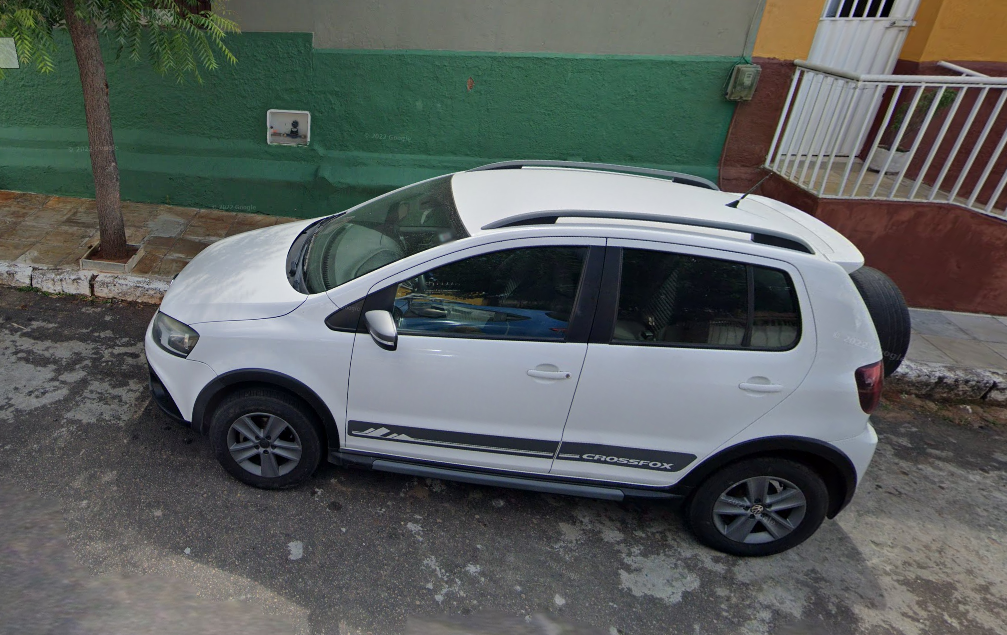car: (141, 151, 922, 571)
